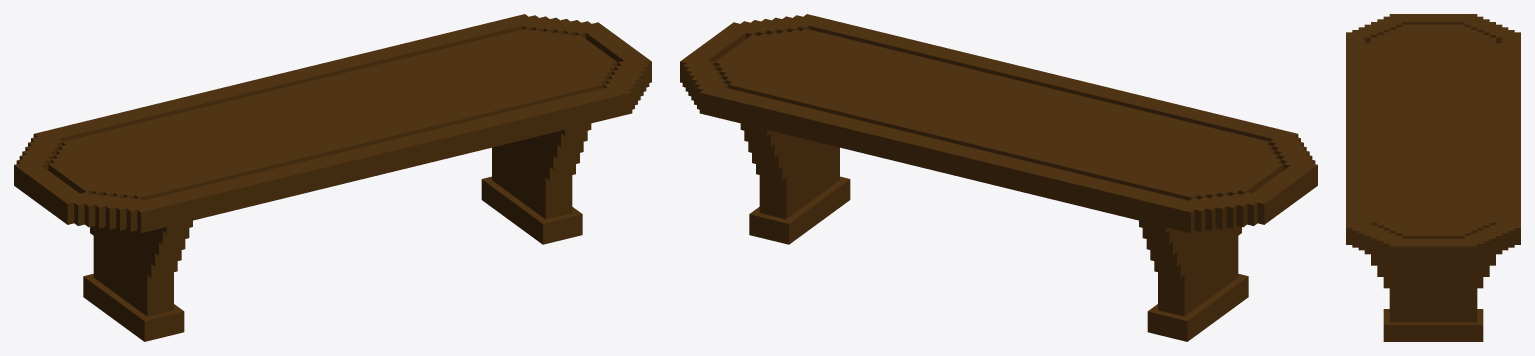
Rendered from Korean_item_05.FBX.
3 views of the same model, side by side, from view 1: azimuth 30°, elevation 25°; view 2: azimuth 150°, elevation 25°; view 3: azimuth 270°, elevation 25° (orthographic). The views are drawn at different scales.
Parts seen in each view (by area): view 1: Voxel_Korean_traditional village-13; view 2: Voxel_Korean_traditional village-13; view 3: Voxel_Korean_traditional village-13.
Part boxes in pixels (x1,y1,x2,y2): Voxel_Korean_traditional village-13: [14, 14, 651, 341]; Voxel_Korean_traditional village-13: [680, 14, 1317, 341]; Voxel_Korean_traditional village-13: [1346, 14, 1520, 341].
Bounding box in the file's own units: 87.98 × 22 × 27.99.
1 material, 1 textured.
